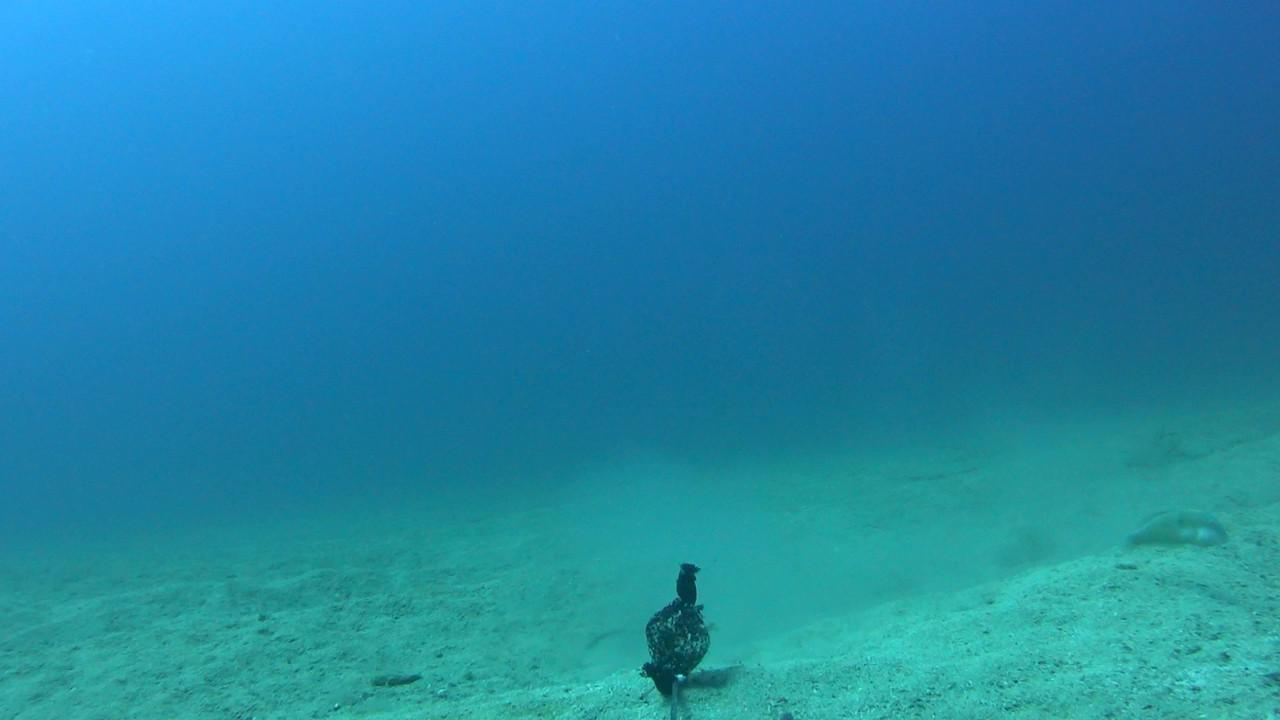myliobatis: (859, 441, 1010, 488)
raor: (1116, 505, 1232, 559)
